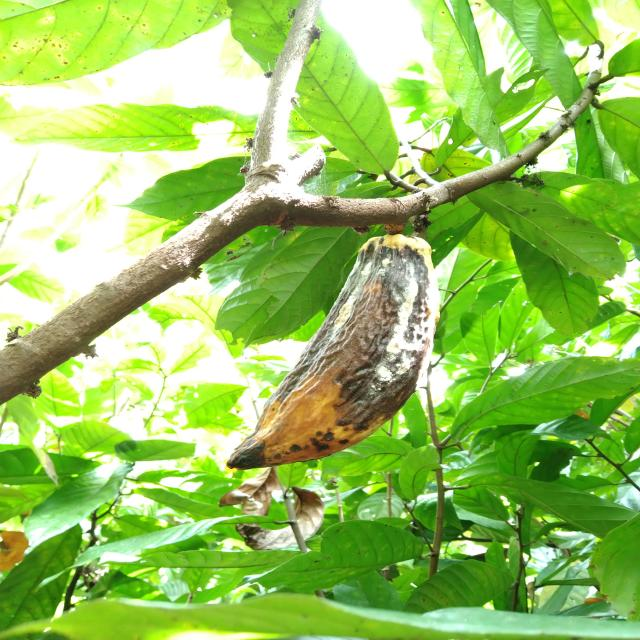Monilia: (228, 228, 438, 468)
